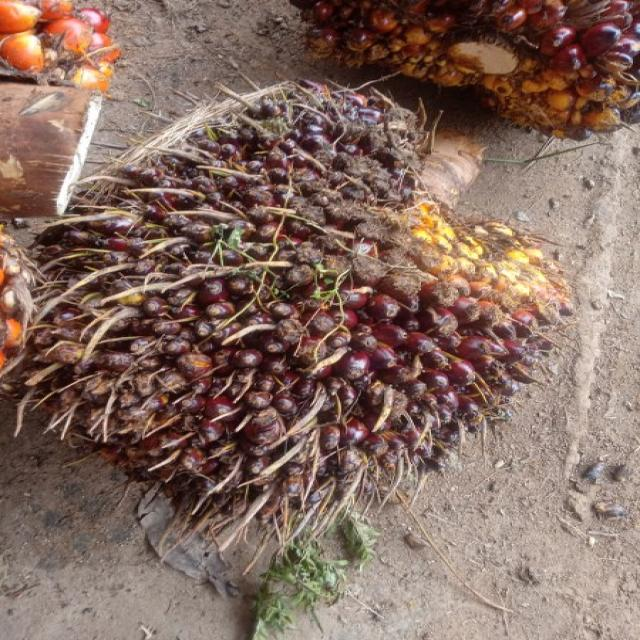fraksi 00: (0, 85, 580, 527)
